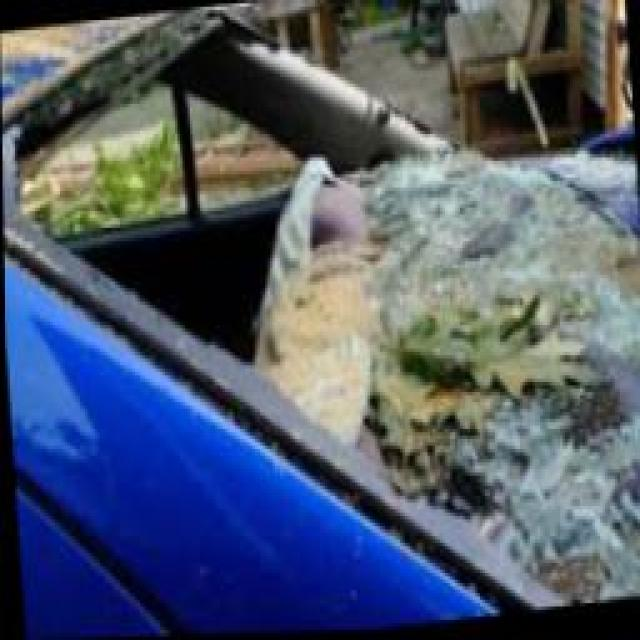Windshield: (3, 8, 584, 604)
